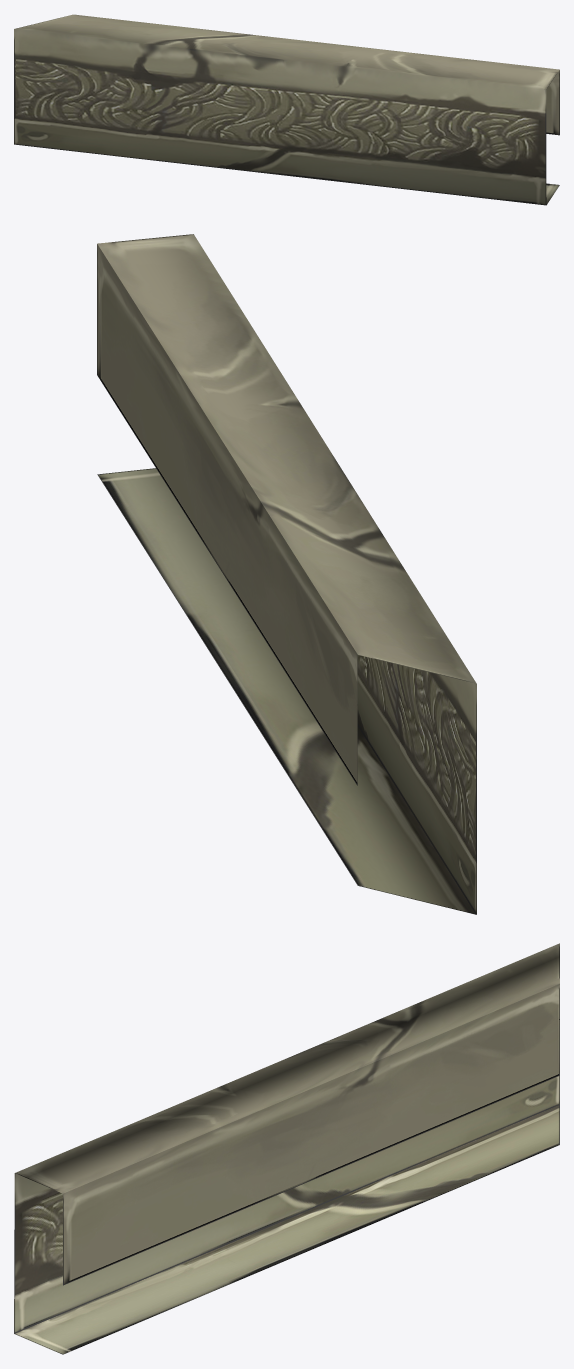
The model's file is wall_diagonal_top3.fbx.
The picture shows the model from 3 angles, top to bottom: view 1: azimuth 30°, elevation 25°; view 2: azimuth 150°, elevation 25°; view 3: azimuth 270°, elevation 25°; orthographic projection. The views are drawn at different scales.
Visible parts, largest first — view 1: diagonal1_v_cap3; view 2: diagonal1_v_cap3; view 3: diagonal1_v_cap3.
Boxes of the visible parts, x1,y1,x2,y2 form: diagonal1_v_cap3: (14,14,559,205); diagonal1_v_cap3: (97,234,476,914); diagonal1_v_cap3: (14,943,559,1354).
Size of the model in its own units: 2.39 by 0.716 by 2.2.
